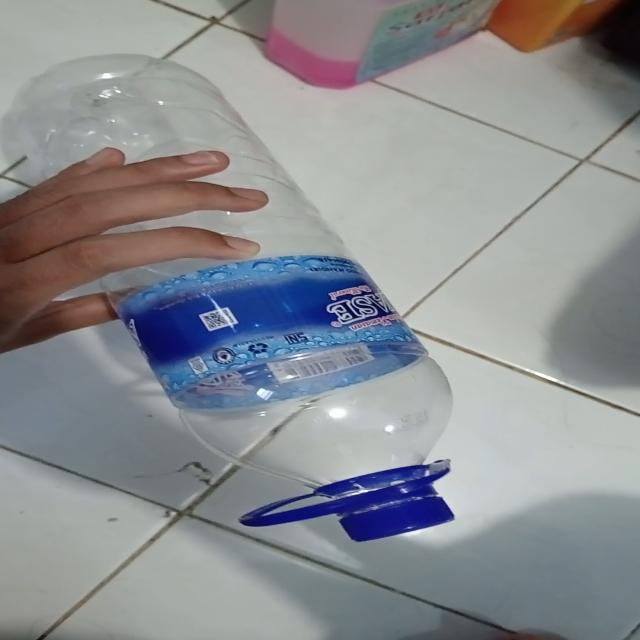Botol bekas: (1, 54, 456, 543)
